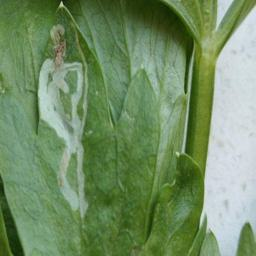liriomyza: (37, 58, 89, 219)
